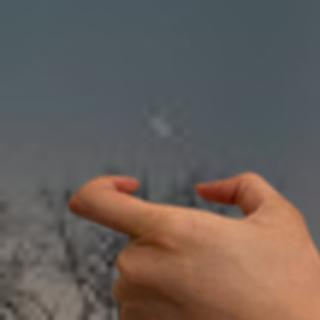HATE: (60, 164, 320, 320)
